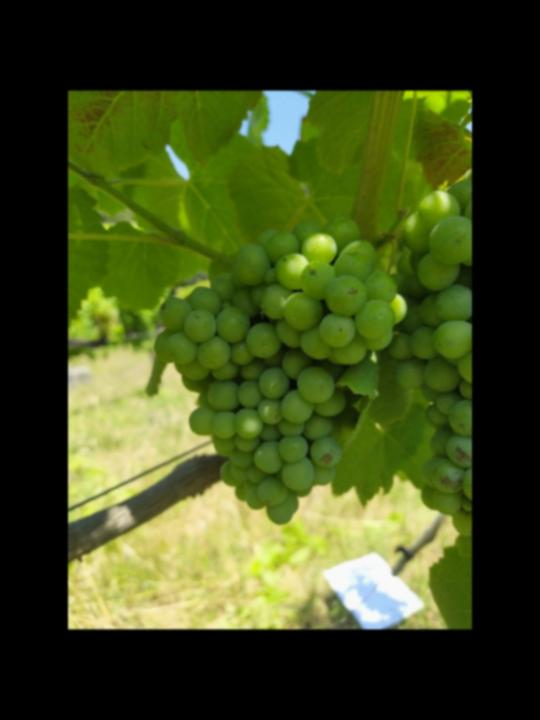grape: (151, 215, 407, 530)
